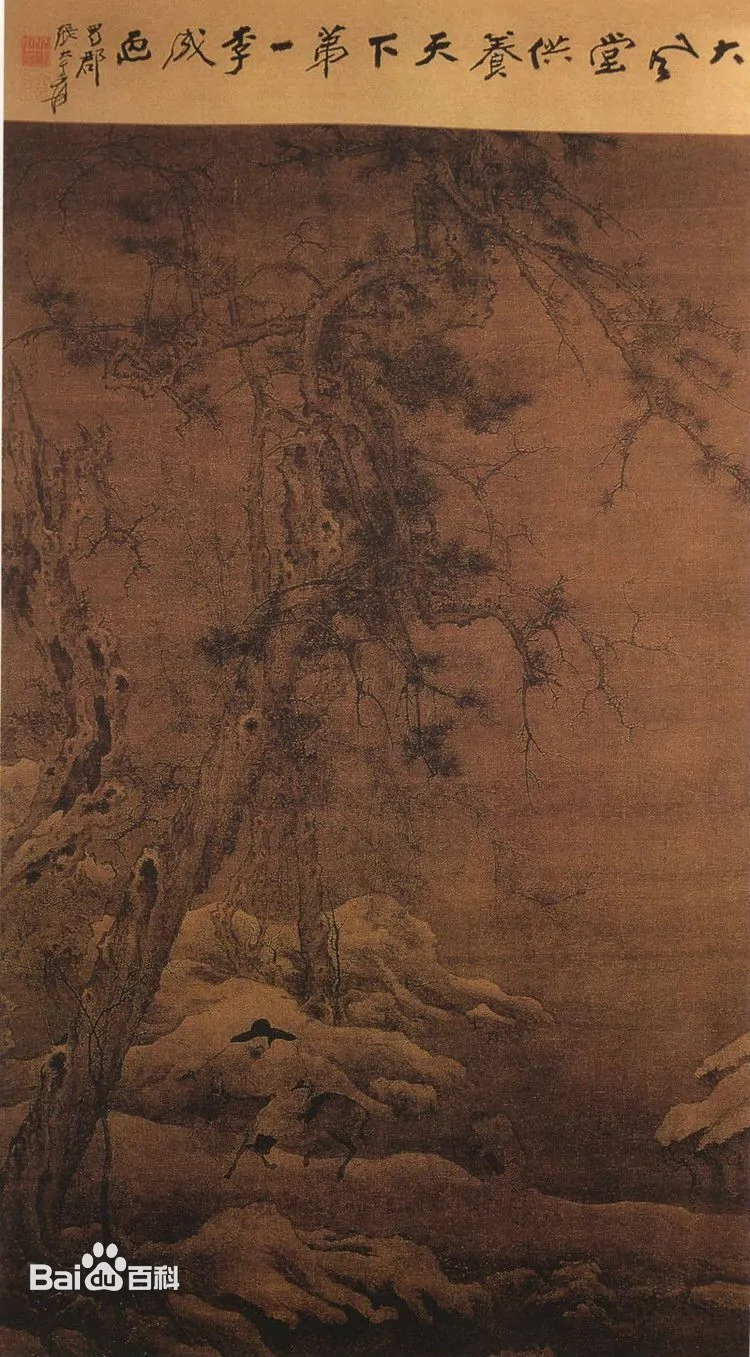horse: (202, 1079, 366, 1180)
house: (2, 137, 733, 904)
man: (229, 1016, 313, 1144)
rock: (55, 1188, 473, 1357), (327, 885, 565, 1046), (658, 1016, 750, 1198)
